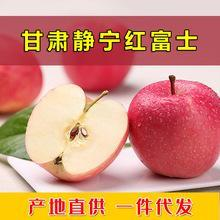apple: (24, 84, 129, 182), (129, 78, 220, 178)
